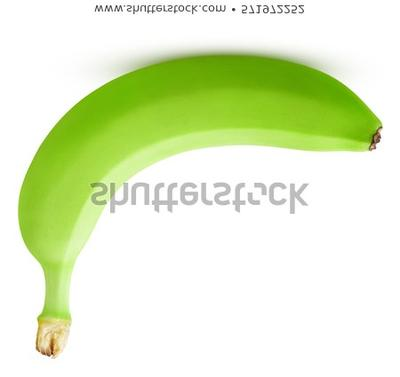banana: (0, 0, 400, 377)
